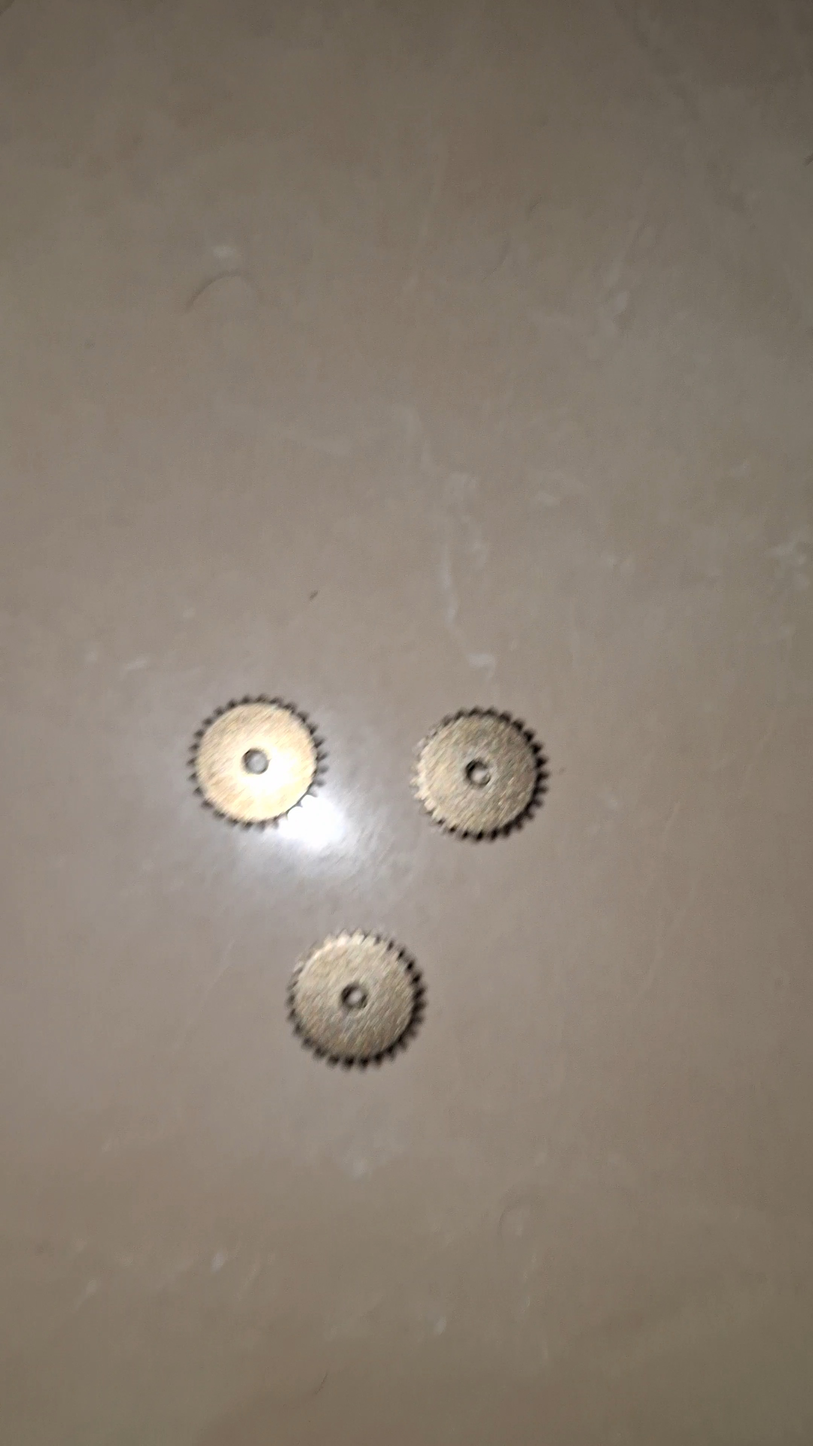spur gear: (288, 932, 425, 1067), (189, 696, 323, 827), (414, 709, 547, 839)
